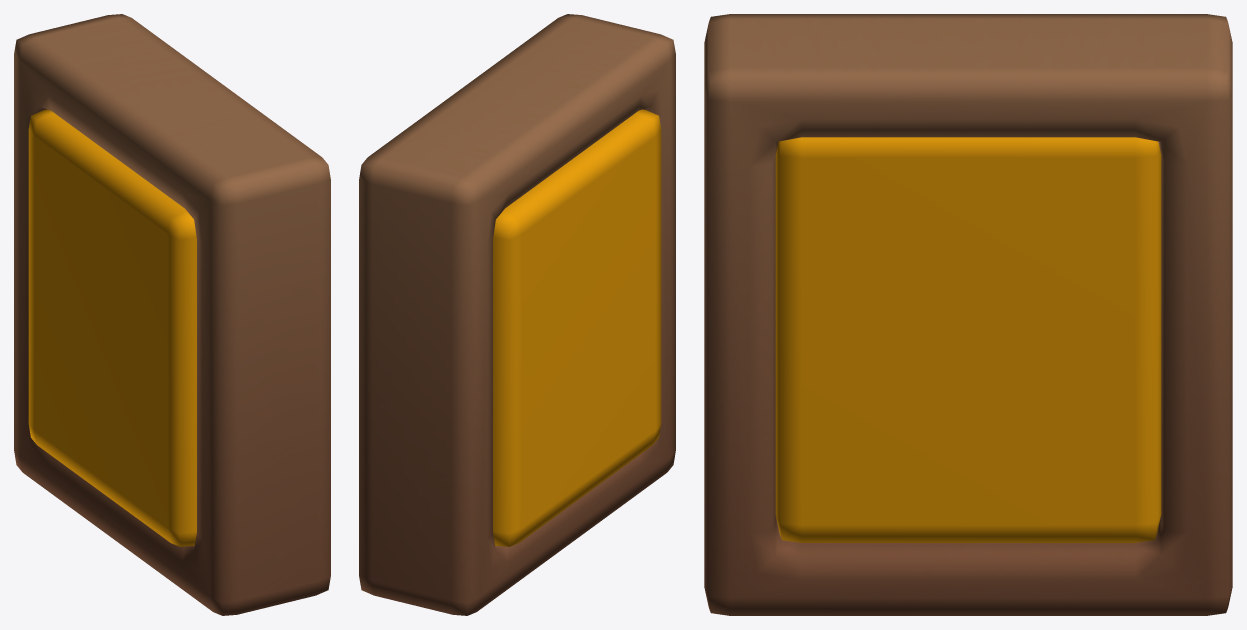
The model's file is SM_Clay_Window_01.fbx.
3 views of the same model, side by side, from view 1: azimuth 30°, elevation 25°; view 2: azimuth 150°, elevation 25°; view 3: azimuth 270°, elevation 25° (orthographic). The views are drawn at different scales.
Parts seen in each view (by area): view 1: SM_Clay_Window_01; view 2: SM_Clay_Window_01; view 3: SM_Clay_Window_01.
Part boxes in pixels (x1,y1,x2,y2): SM_Clay_Window_01: (14, 14, 330, 615); SM_Clay_Window_01: (359, 14, 675, 615); SM_Clay_Window_01: (704, 14, 1232, 615).
Bounding box in the file's own units: 0.1028 × 0.3314 × 0.2921.
Materials: 2 (1 with a texture image).
